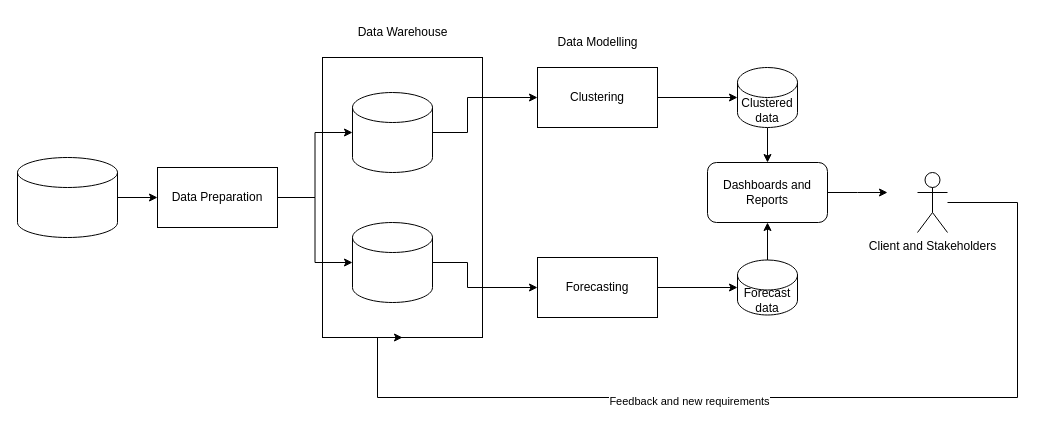
This 1043x424 diagram has some shape labels left out. The shapes that lost their labels are listed below. From the top down, each one's centre as x and y in pixels, then its label:
the point at 392,132: Customers
the point at 67,197: Real-time transactions
the point at 392,262: Products
